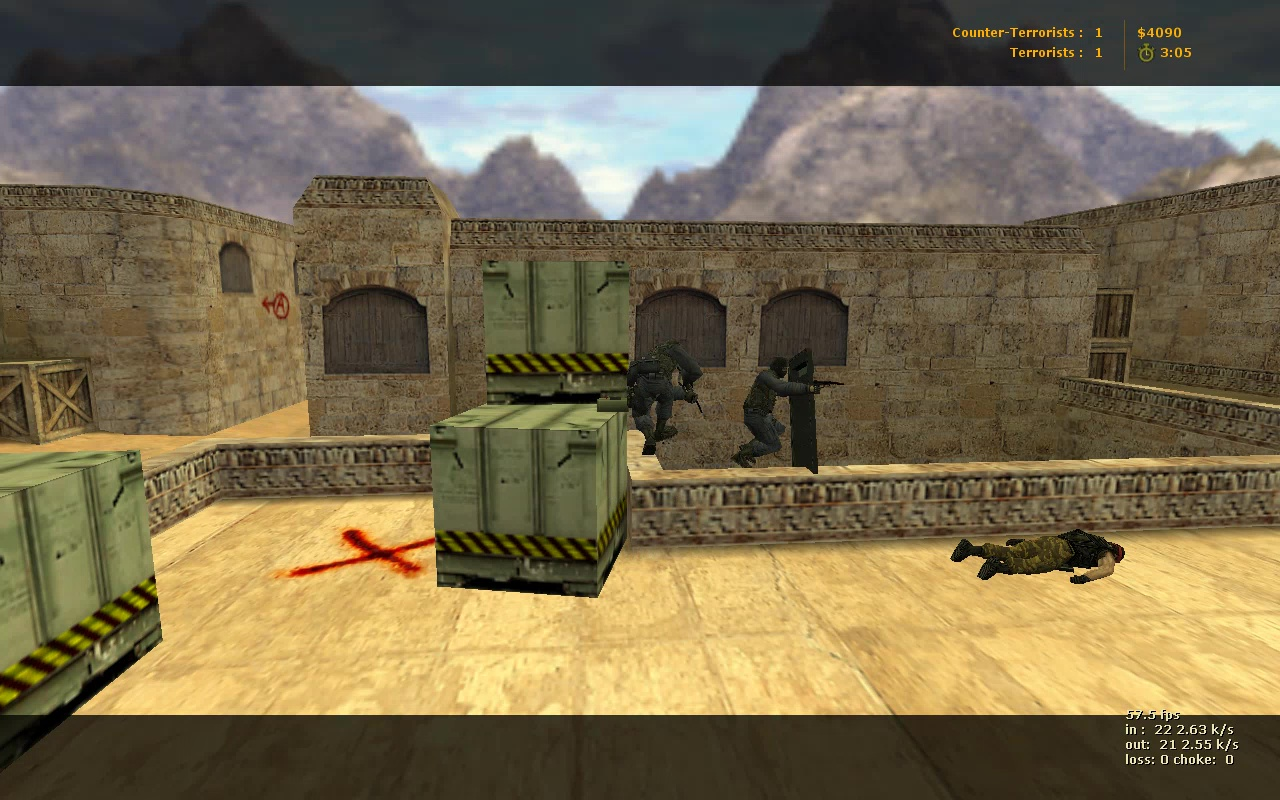ct: (738, 350, 823, 471), (625, 335, 708, 457)
dead: (949, 530, 1127, 580)
